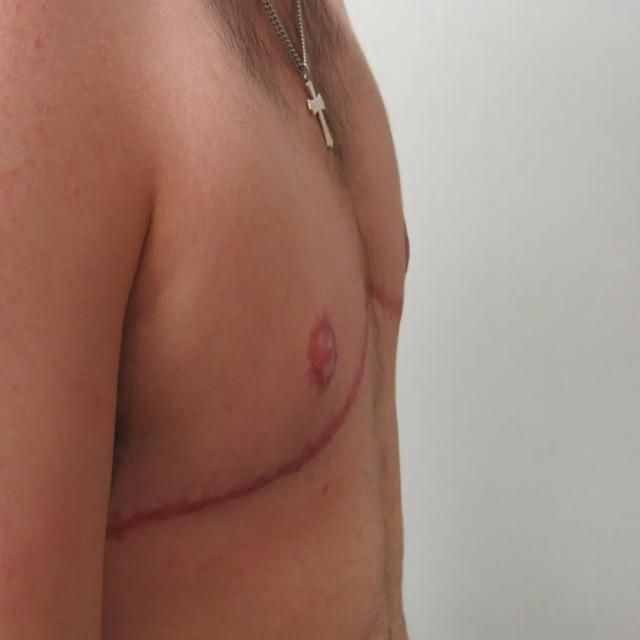Seno herido: (96, 149, 368, 568), (370, 73, 420, 358)
